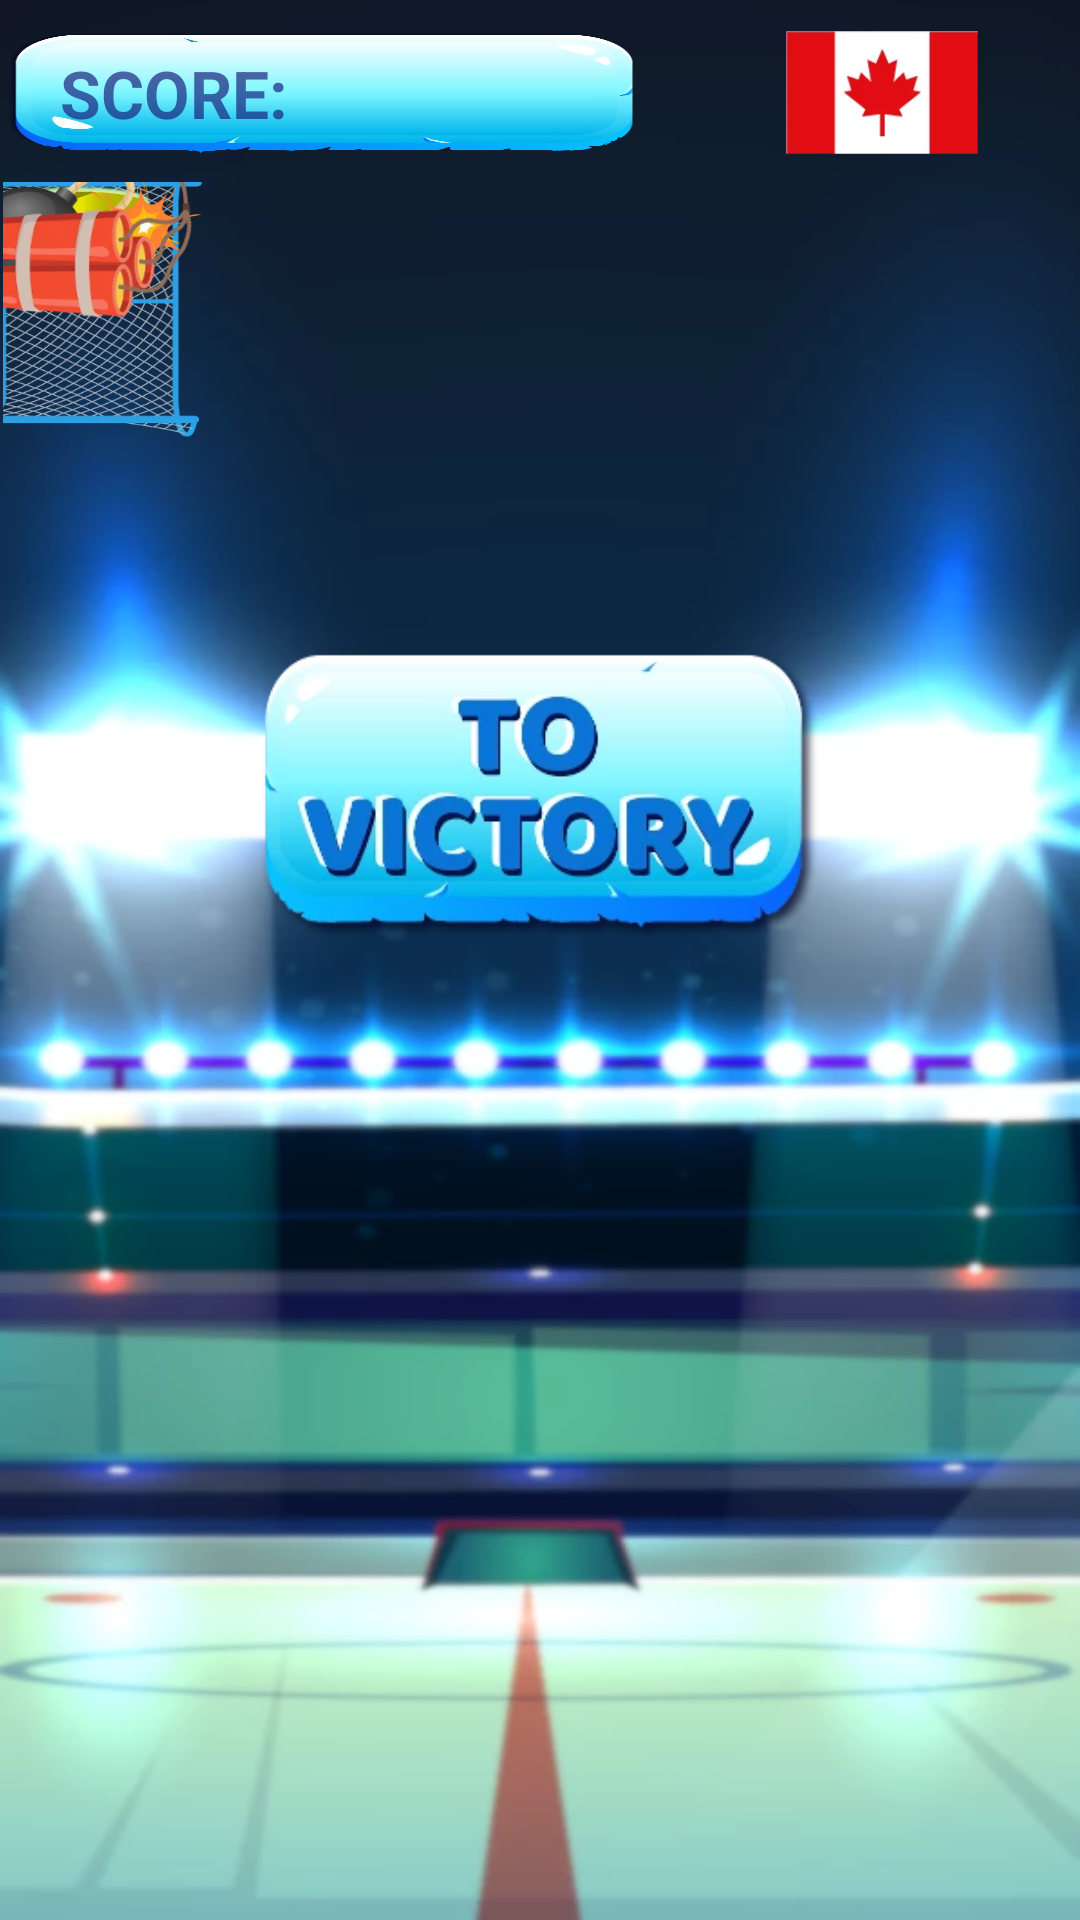

Screen size 1080 x 1920. Icon name, then its center in pixels as [x,y]:
team: [882,92]
